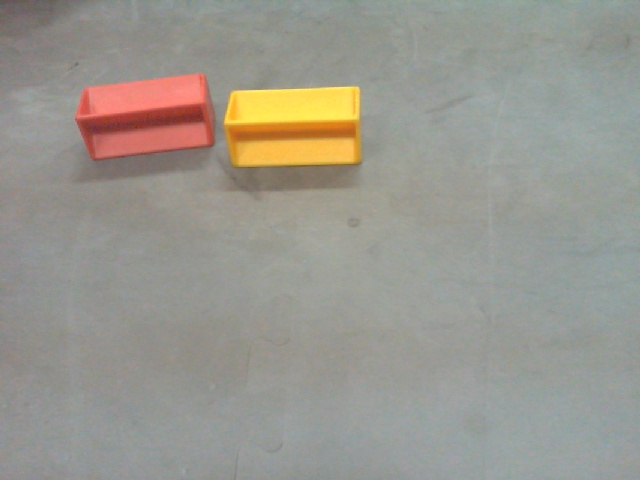RedSample: (72, 73, 216, 163)
YellowSample: (225, 85, 359, 167)
